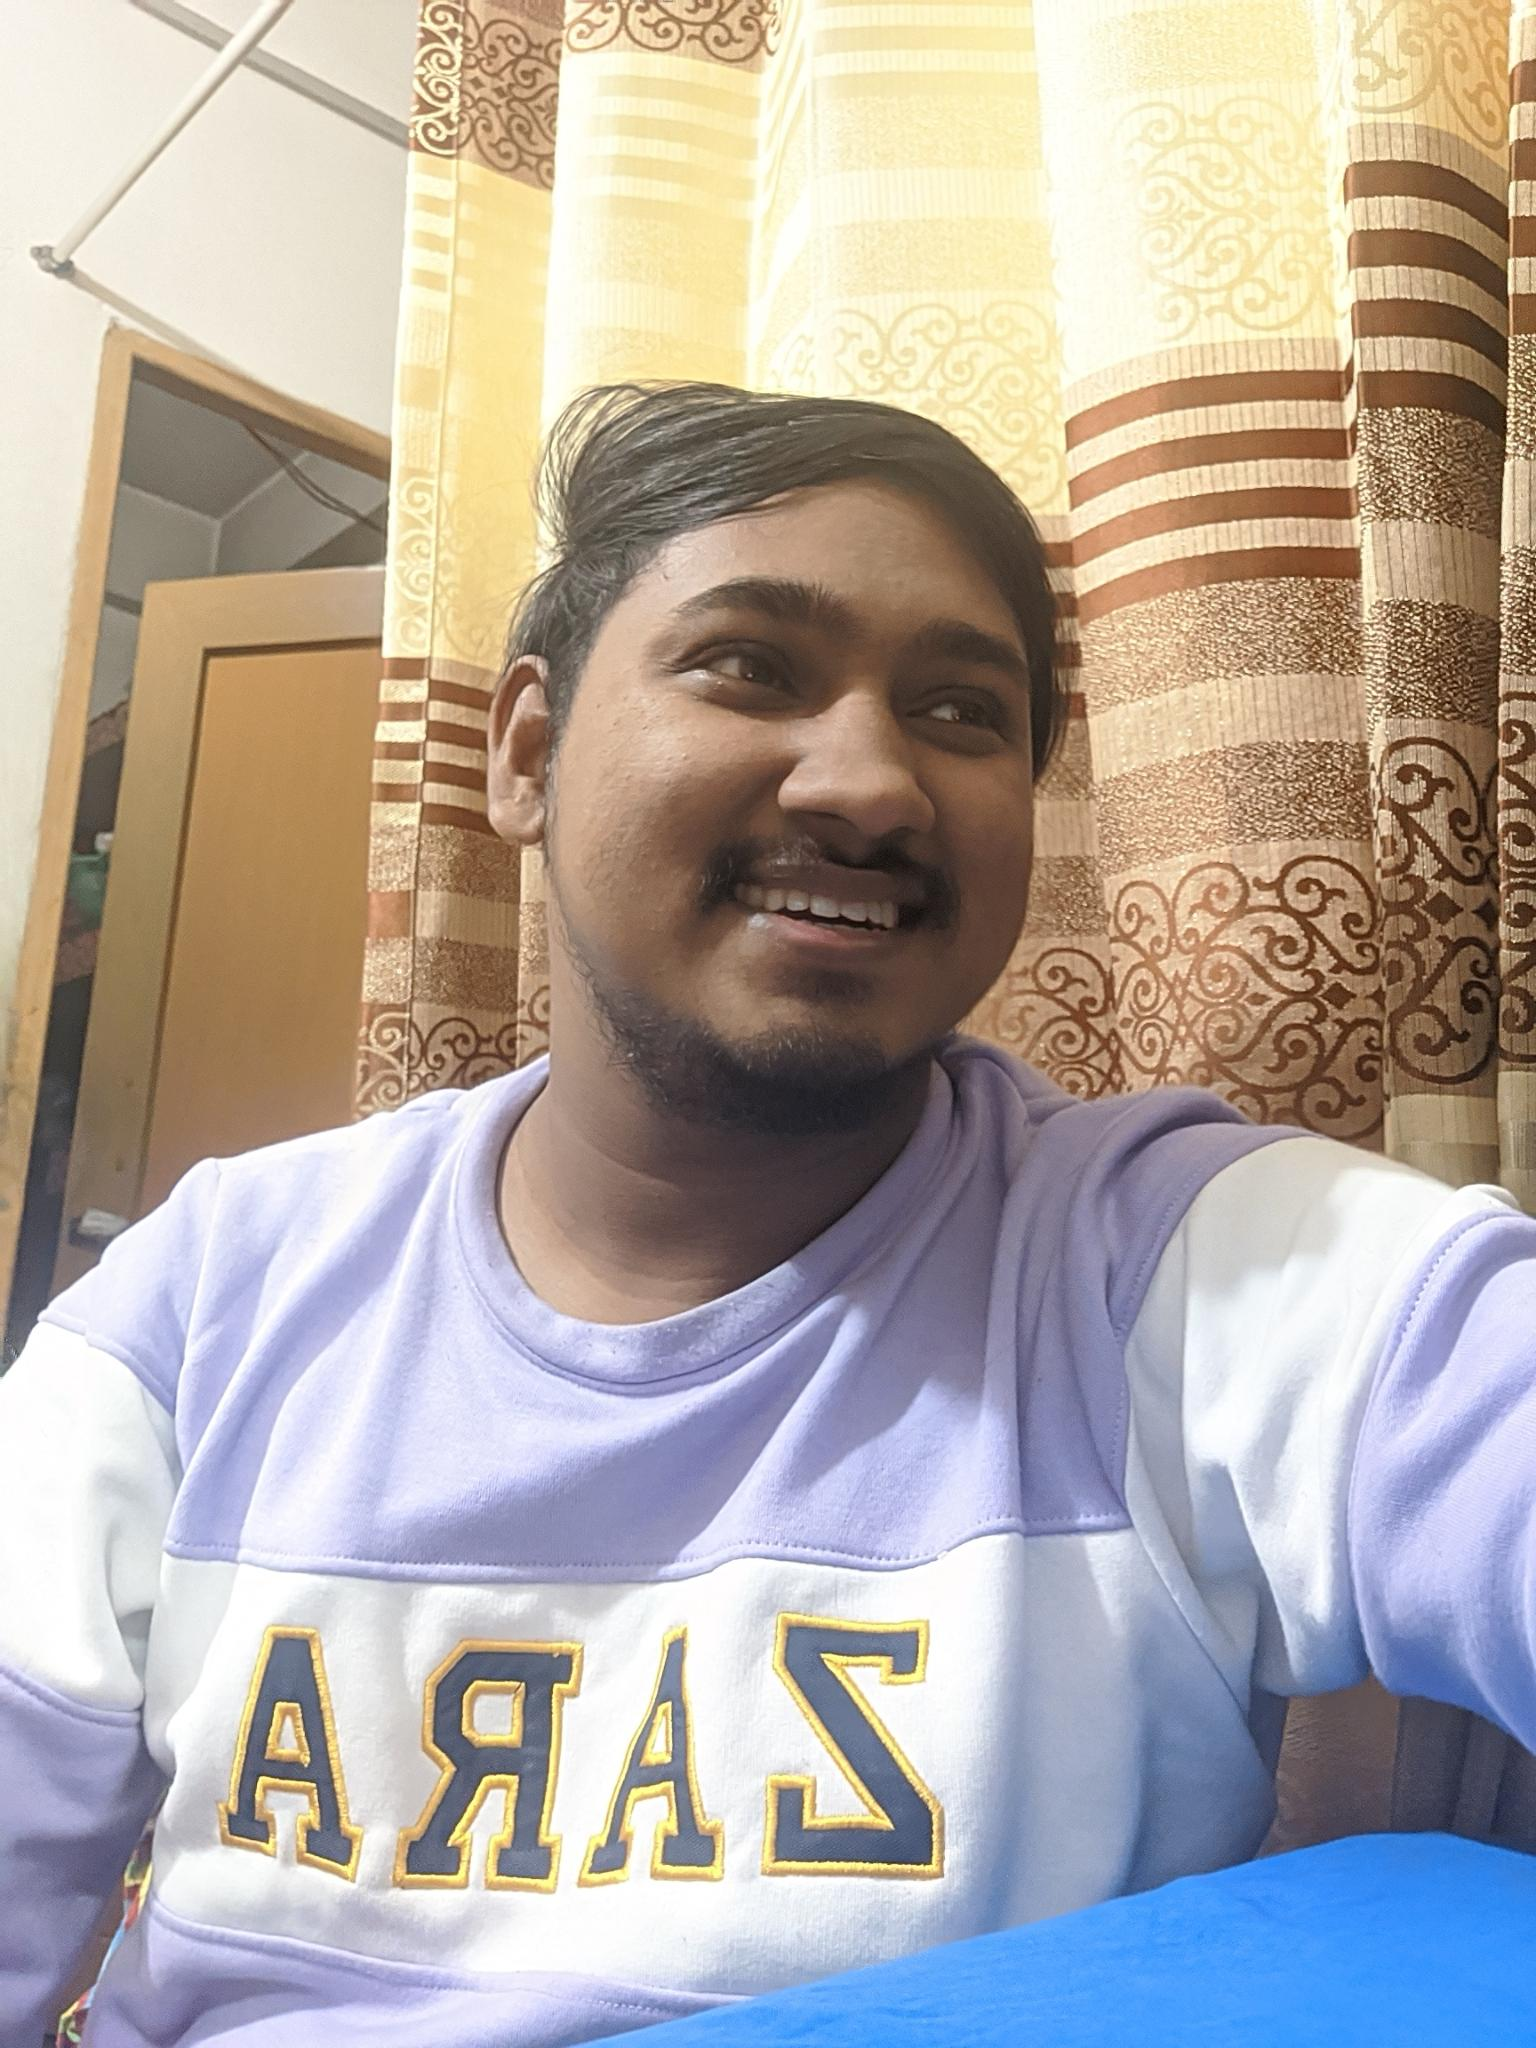Happy: (565, 529, 1084, 1098)
